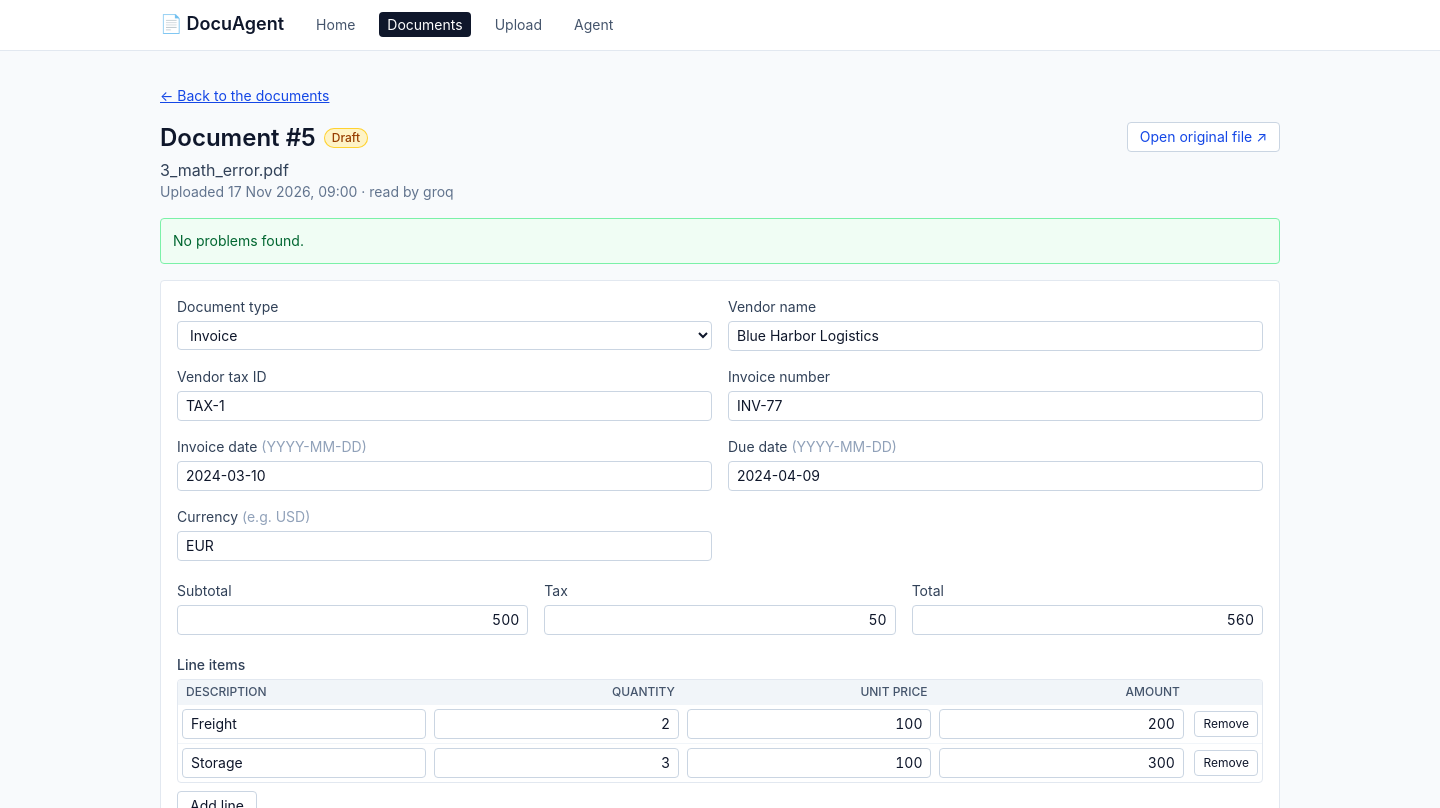
Test case: Document detail page › Confirm › is blocked by unsaved edits until they are saved
The image size is (1440, 808).
Check: the heading "Document #5 Draft" is shown, box [160,123,368,152]
Clear the field labelled "Vendor name" at (996, 336), box [728,321,1263,351]
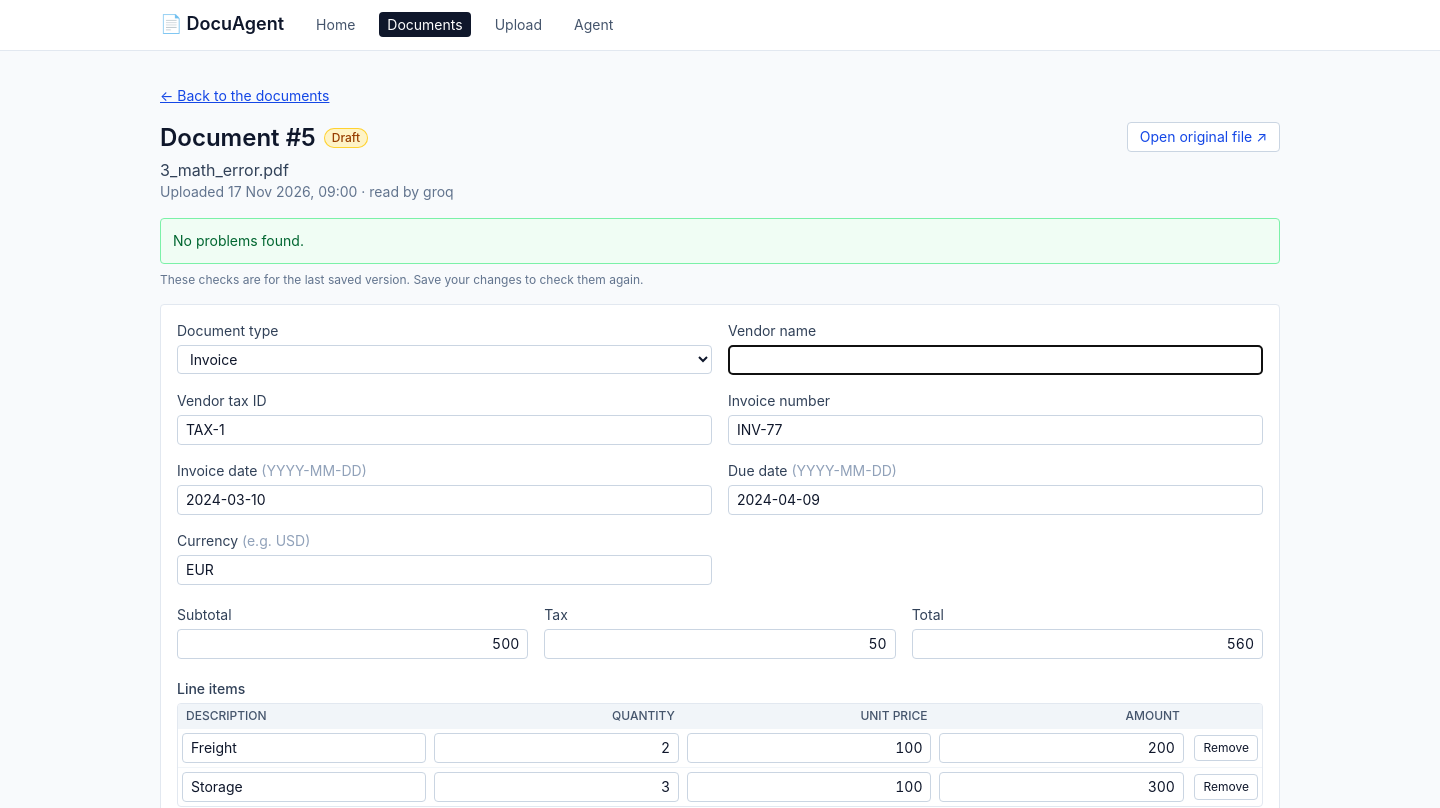
Type "Someone Else" into the field labelled "Vendor name" at (996, 360), box [728,345,1263,375]
(page scrolled)
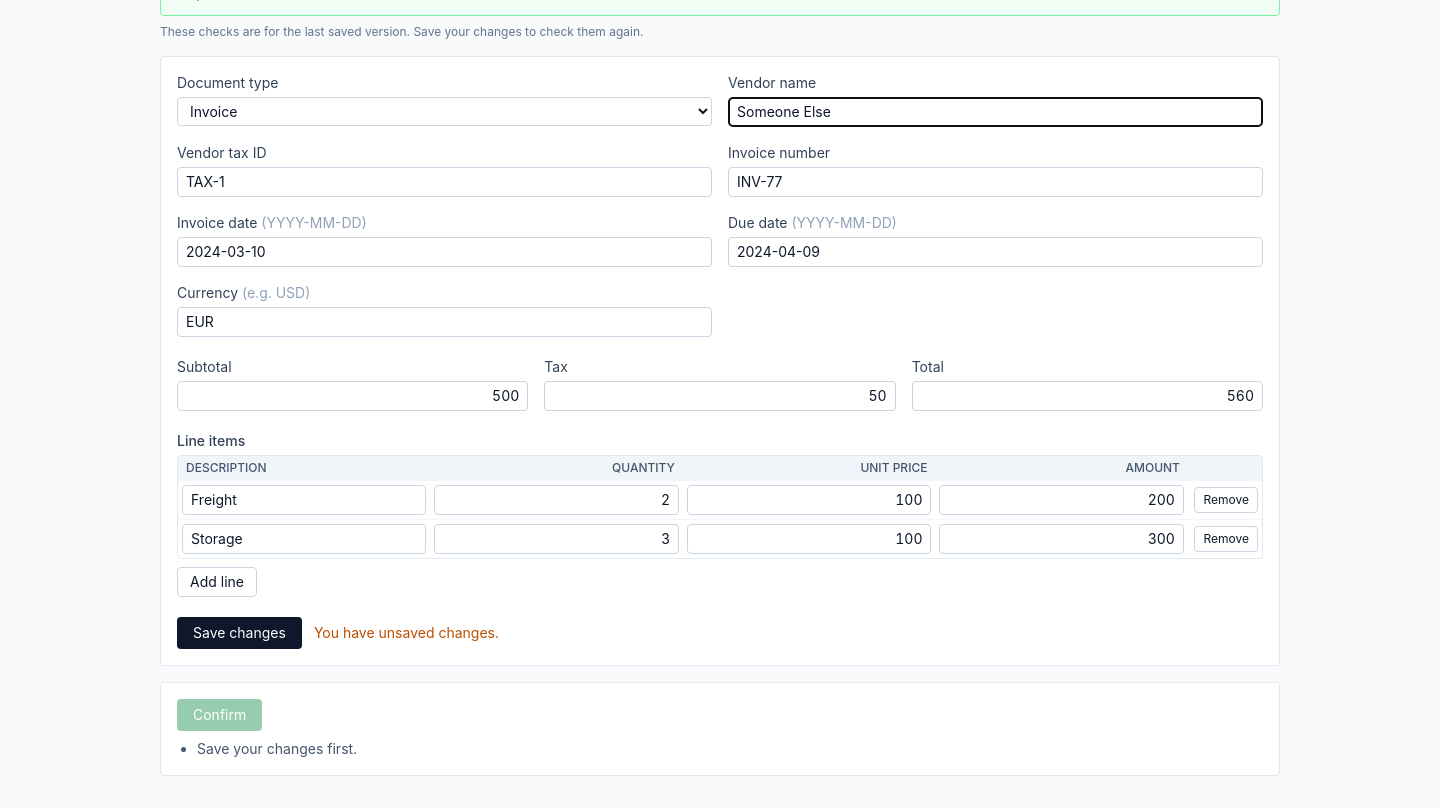
Check: the button "Confirm" is disabled, box [177,699,262,731]
Check: the list item "Save your changes first." is shown, box [197,740,357,757]
Click the button "Save changes" at (239, 633), box [177,617,302,649]
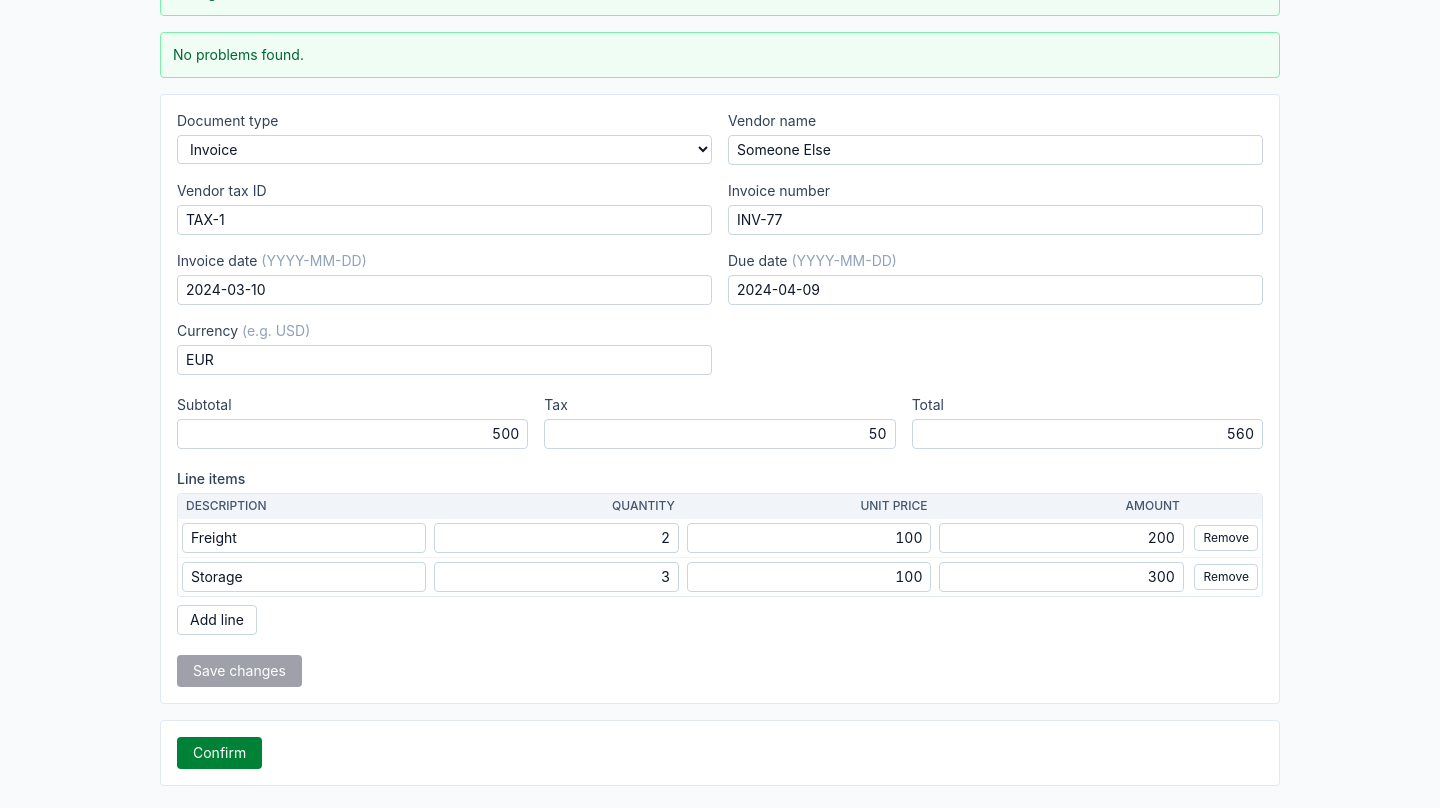
Check: the button "Confirm" is enabled, box [177,737,262,769]
Check: the list item "Save your changes first." is gone
